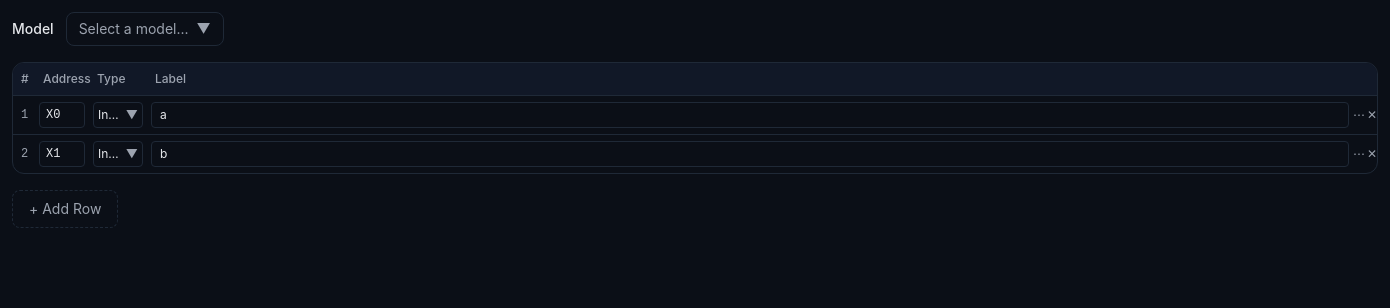
Test: IOMappingTable › expandable row (M12.1.2) › each row expand state is independent
expect the button with test id "io-more-1" is shown: met, box 1353,142 -> 1365,166
Click the button with test id "io-more-0".
click(1359, 115)  # box 1353,103 -> 1365,127
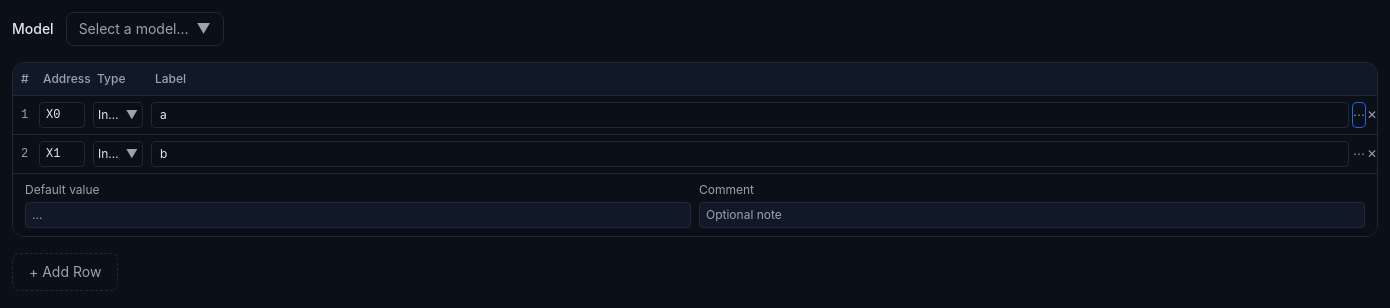
expect the row with test id "io-more-row-0" is shown: met, box 13,174 -> 1377,236
expect the field with test id "io-default-0" is shown: met, box 25,202 -> 691,228
